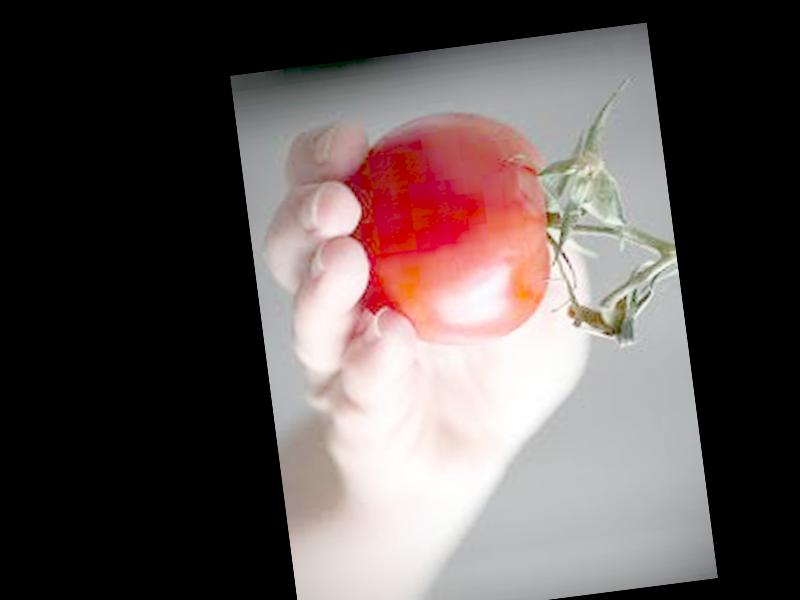Tomato: (337, 100, 570, 356)
